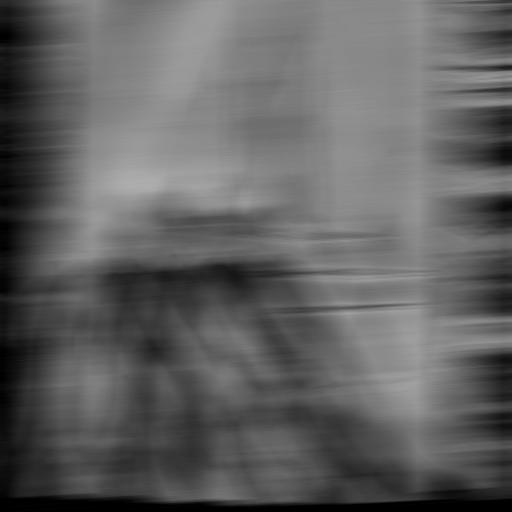boat: (122, 1, 420, 405)
bottom_right: (442, 476, 476, 496)
